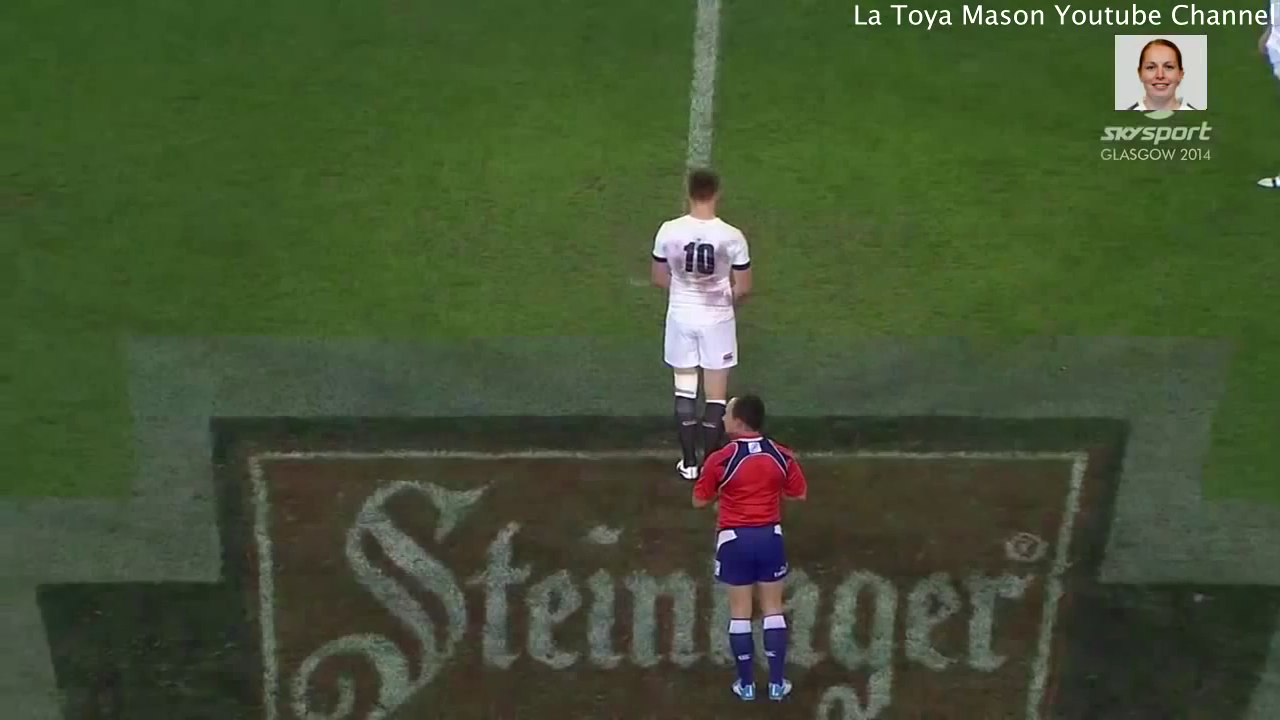player: (691, 389, 811, 707), (642, 166, 753, 484)
